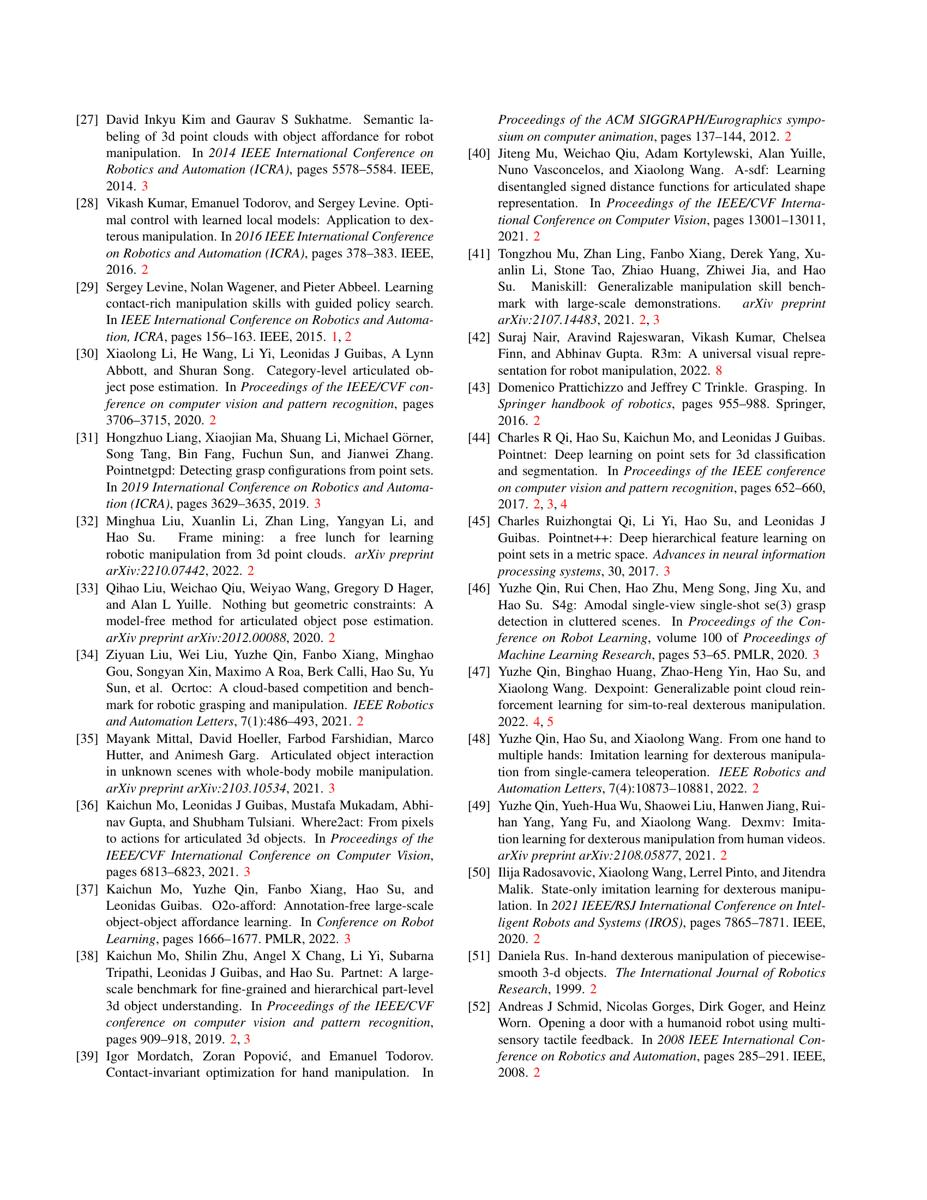text: (72, 579, 438, 1084), (463, 580, 830, 1083), (463, 109, 830, 579), (72, 109, 438, 579)
